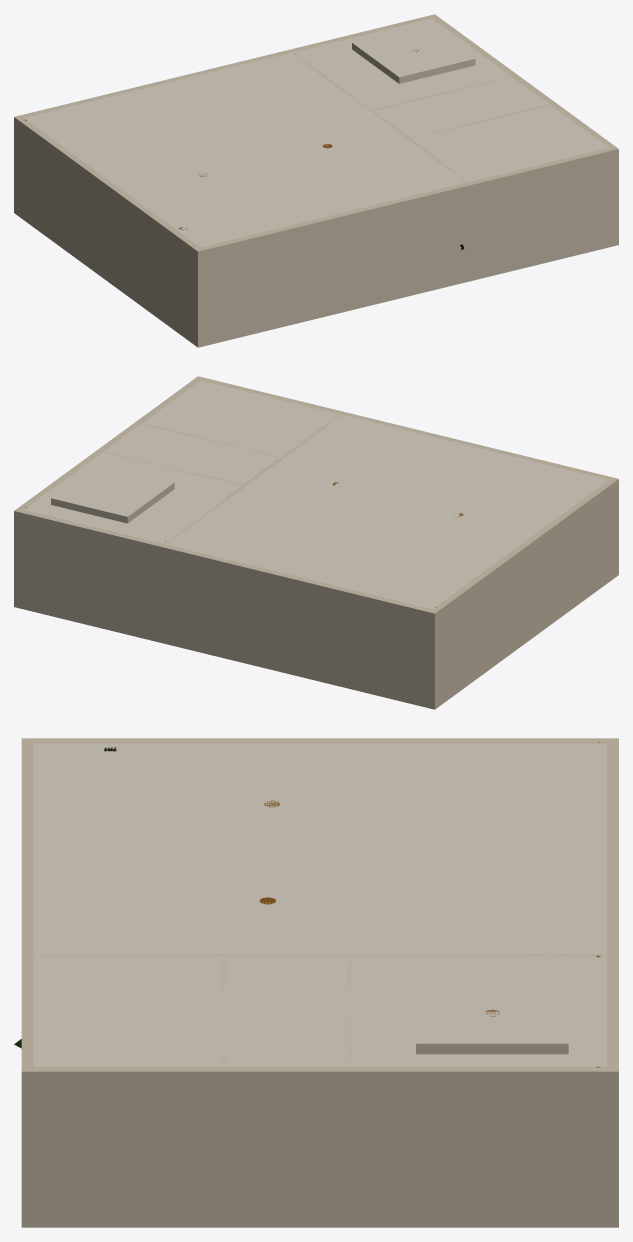
File: int_suite_presidential.glb
3 renders of one model, top to bottom at view 1: azimuth 30°, elevation 25°; view 2: azimuth 150°, elevation 25°; view 3: azimuth 270°, elevation 25°, orthographic. The views are drawn at different scales.
Parts seen in each view (by area): view 1: ROOM; view 2: ROOM; view 3: ROOM.
Boxes of the visible parts, box(x1,y1,x2,y2) form: ROOM: box(14, 14, 618, 347); ROOM: box(14, 376, 618, 709); ROOM: box(14, 738, 618, 1227).
Size of the model in its own units: 16.5 by 3.89 by 12.66.
